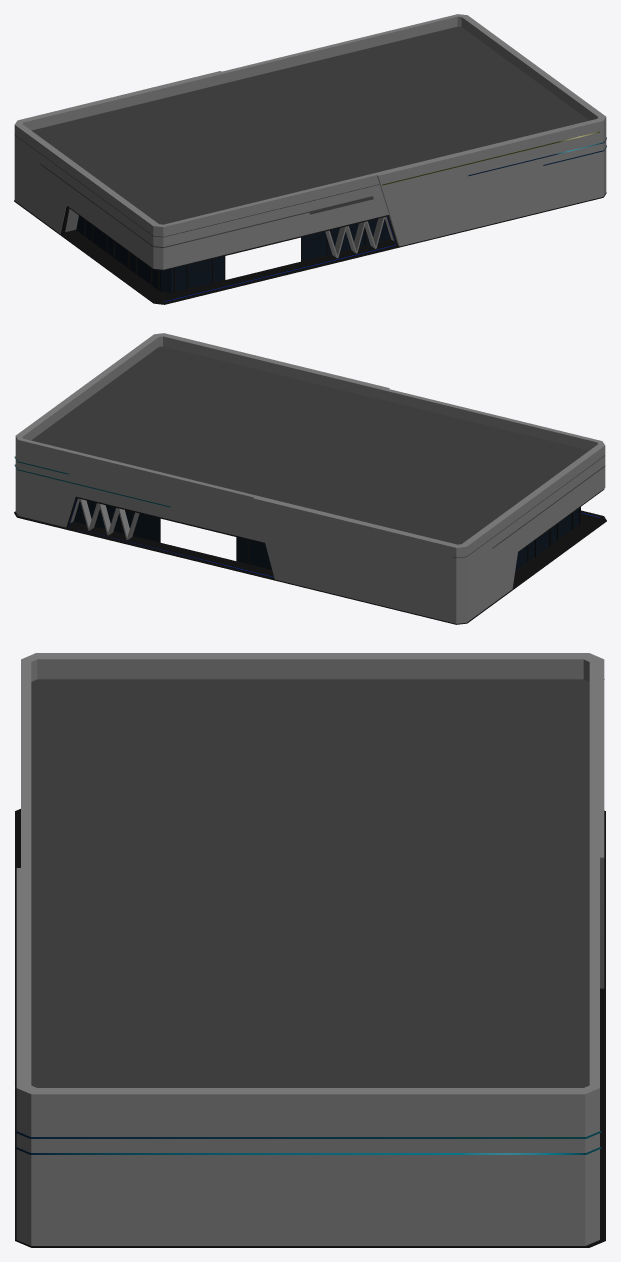
Rendered from Building_005_1st_L3.fbx.
3 views of the same model, one above another, from view 1: azimuth 30°, elevation 25°; view 2: azimuth 150°, elevation 25°; view 3: azimuth 270°, elevation 25° (orthographic). The views are drawn at different scales.
Parts seen in each view (by area): view 1: Building_005_1st_L3; view 2: Building_005_1st_L3; view 3: Building_005_1st_L3.
Part boxes in pixels (x1,y1,x2,y2): Building_005_1st_L3: (14,14,606,304); Building_005_1st_L3: (14,333,606,624); Building_005_1st_L3: (15,653,605,1247).
Bounding box in the file's own units: 71.22 × 11.5 × 40.2.
